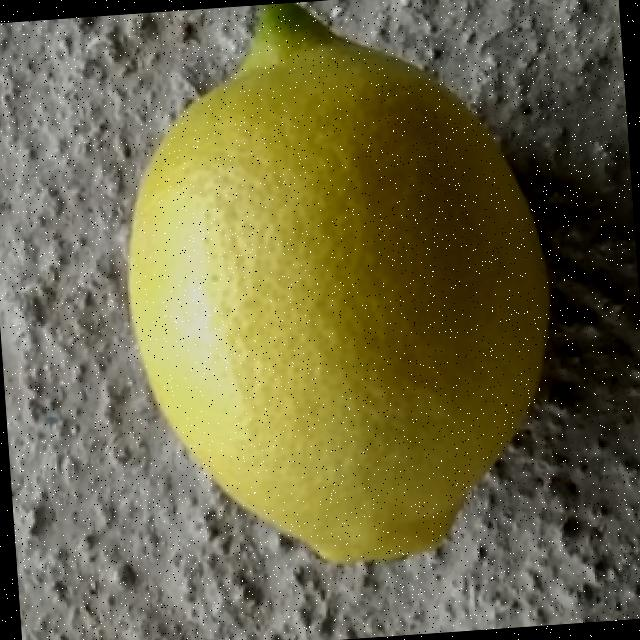Ripe: (102, 0, 576, 585)
